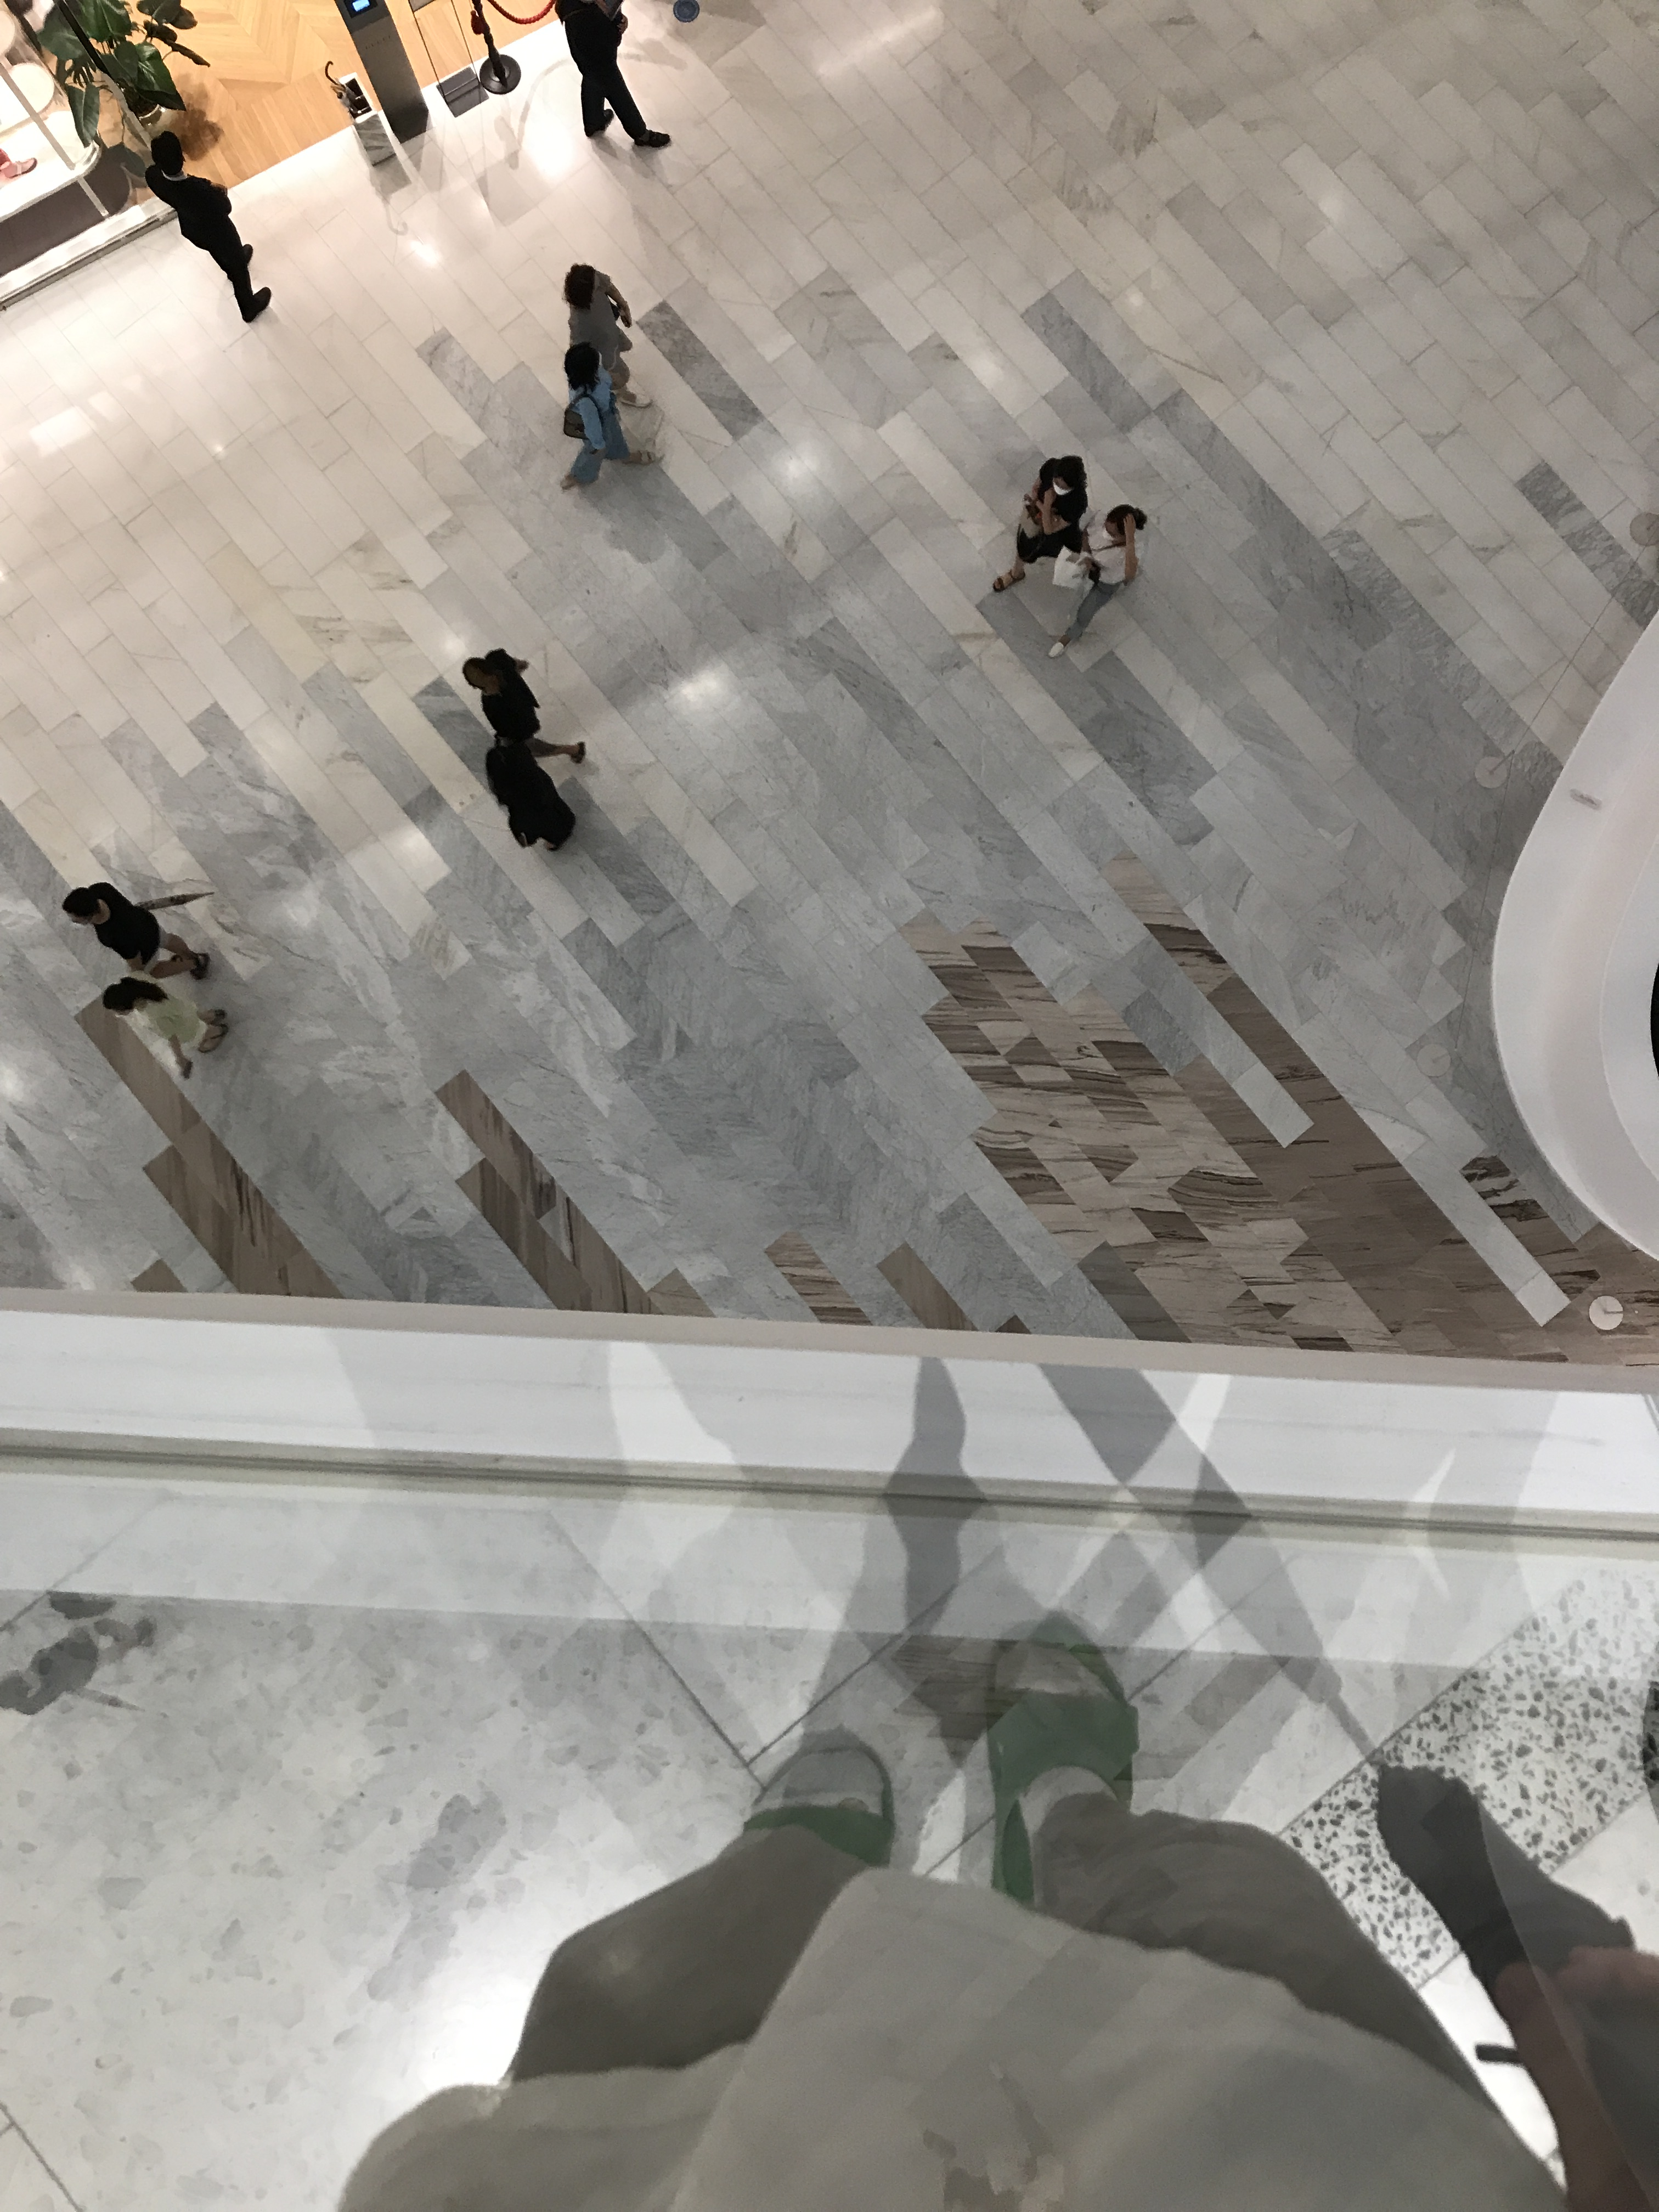person: (144, 130, 271, 325), (554, 1, 673, 150), (554, 341, 664, 493), (1048, 502, 1150, 661), (60, 879, 212, 984), (461, 645, 588, 765), (99, 975, 234, 1082), (562, 261, 652, 410), (991, 454, 1090, 593), (483, 743, 578, 855)
